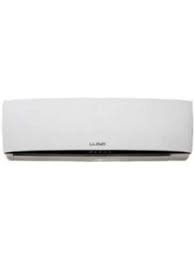ac: (1, 92, 194, 164)
